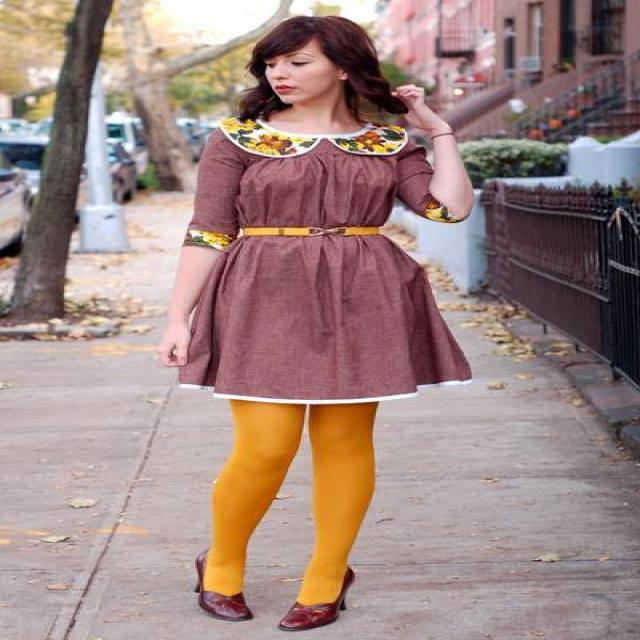dress: (165, 115, 470, 399)
shoe: (195, 576, 354, 630)
